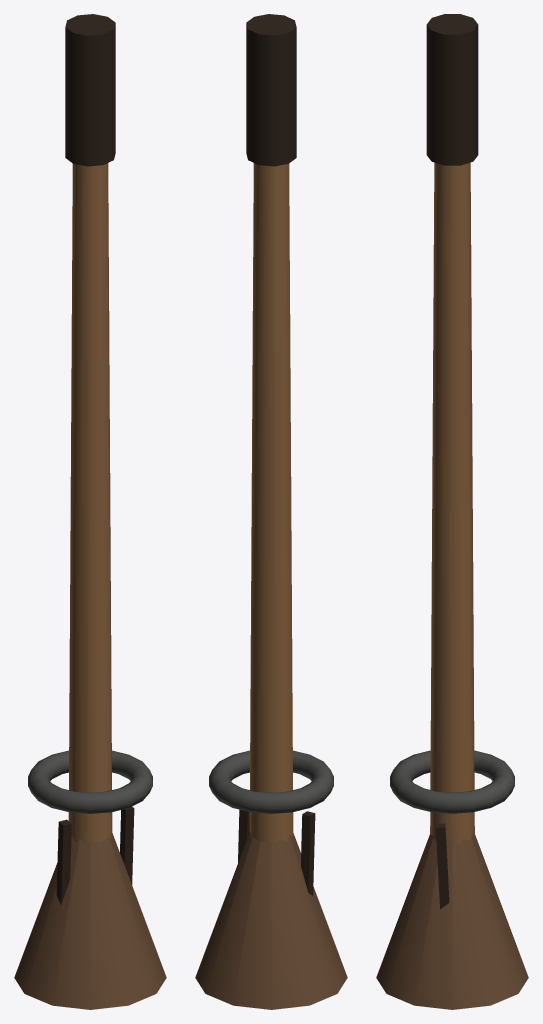
The model's file is sk_broom.glb.
3 views of the same model, side by side, from view 1: azimuth 30°, elevation 25°; view 2: azimuth 150°, elevation 25°; view 3: azimuth 270°, elevation 25° (orthographic).
Visible parts, largest first — view 1: wood, straw, metal; view 2: wood, straw, metal; view 3: wood, straw, metal.
Boxes of the visible parts, bbox=[...] form: wood: bbox=[56, 14, 134, 904]; straw: bbox=[14, 832, 166, 1009]; metal: bbox=[28, 750, 152, 813]; wood: bbox=[238, 14, 315, 895]; straw: bbox=[195, 832, 347, 1009]; metal: bbox=[209, 750, 333, 813]; wood: bbox=[426, 14, 478, 909]; straw: bbox=[376, 834, 528, 1009]; metal: bbox=[390, 750, 514, 813].
Size of the model in its own units: 0.19 by 1.31 by 0.19.
